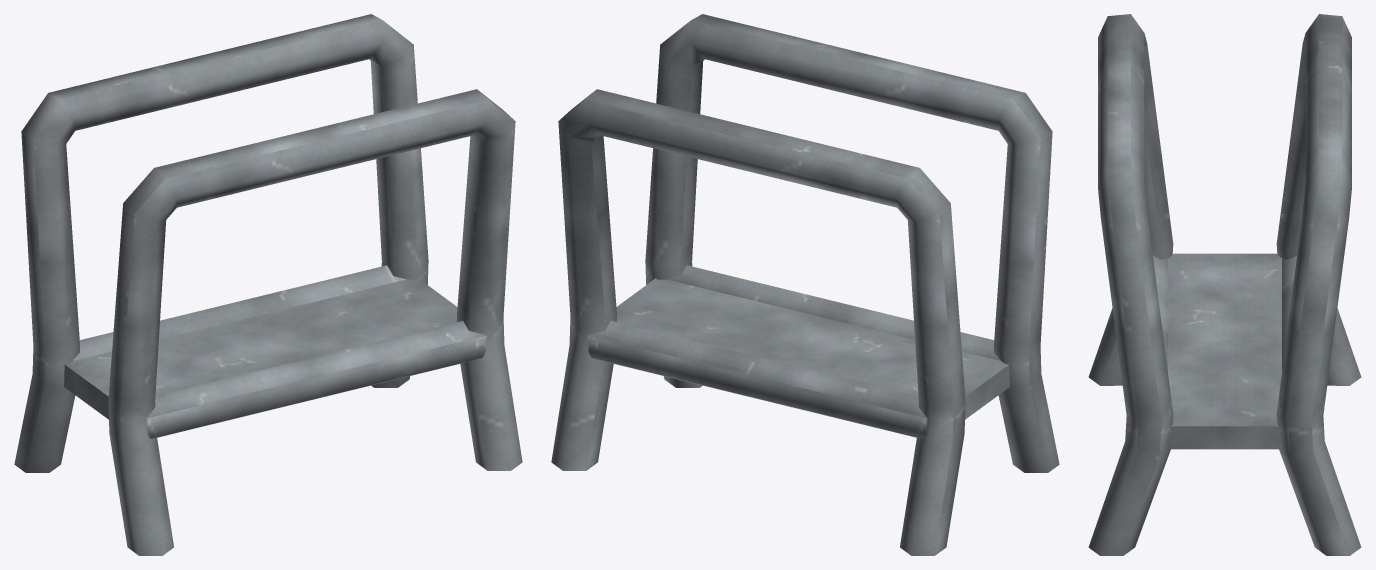
The model's file is NapkinHolder.fbx.
3 views of the same model, side by side, from view 1: azimuth 30°, elevation 25°; view 2: azimuth 150°, elevation 25°; view 3: azimuth 270°, elevation 25° (orthographic).
Visible parts, largest first — view 1: NapkinHolder.002, NapkinHolder.001, NapkinHolder; view 2: NapkinHolder.002, NapkinHolder.001, NapkinHolder; view 3: NapkinHolder.002, NapkinHolder, NapkinHolder.001.
Boxes of the visible parts, x1,y1,x2,y2 form: NapkinHolder.002: (14,14,522,555); NapkinHolder.001: (73,265,486,438); NapkinHolder: (64,278,457,419); NapkinHolder.002: (551,14,1059,555); NapkinHolder.001: (587,265,1000,438); NapkinHolder: (616,278,1009,419); NapkinHolder.002: (1088,14,1361,555); NapkinHolder: (1168,253,1281,449); NapkinHolder.001: (1153,256,1296,371).
Size of the model in its own units: 0.2323 by 0.2138 by 0.1432.
Materials: 1 (1 with a texture image).
